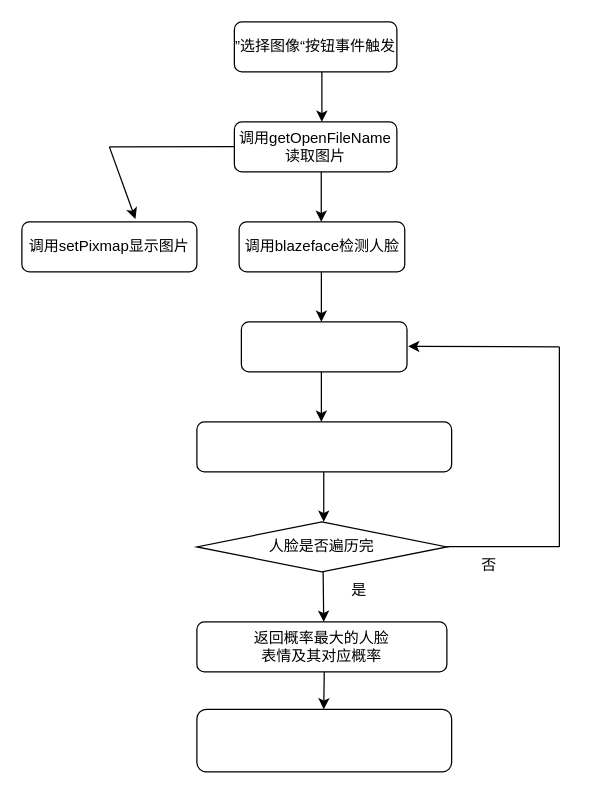
Some shapes in this 591 by 794 pixel diagram are drawn without their labels. The shapes that lost their labels are listed below. From the top down, each one's centre as x and y in pixels, then its label:
pixel 323 346: 人脸数据增强
pixel 324 446: 读取模型权重文件（.h5）并预测
pixel 324 740: 调用setPixmap显示对应的表情 调用bar绘制概率直方图
